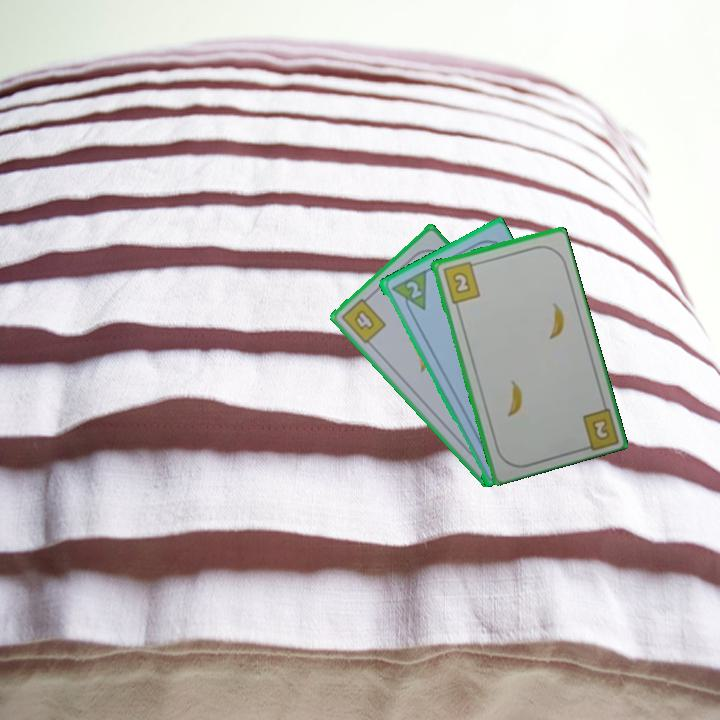2b: (439, 258, 483, 306), (588, 415, 613, 443)
2p: (402, 277, 424, 301)
4b: (338, 291, 389, 347)
